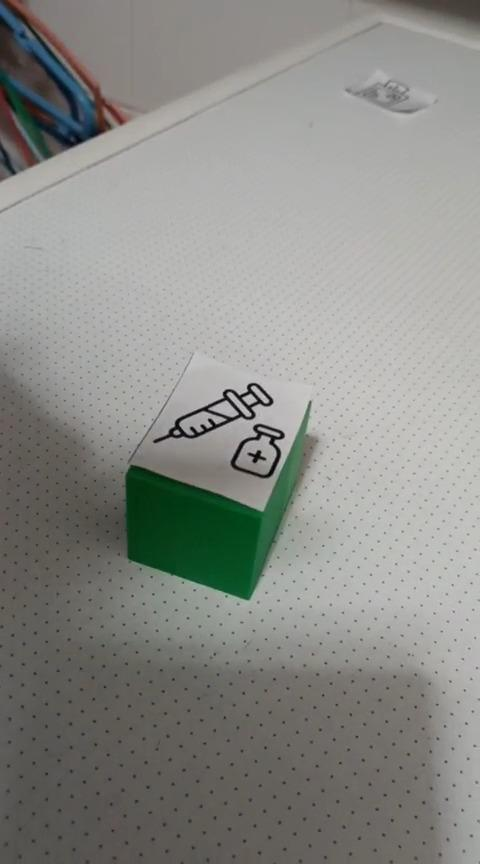antiseptic cream: (123, 349, 314, 600)
